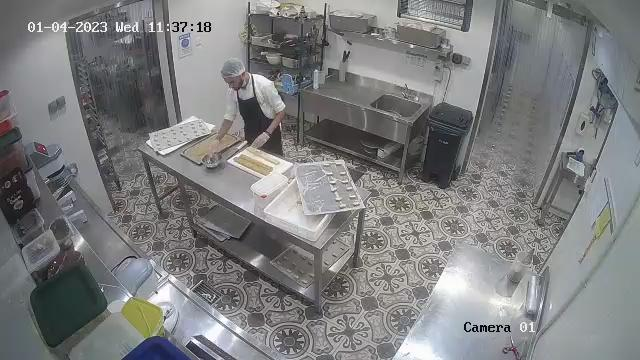apron: (235, 77, 285, 161)
